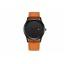watch: (23, 16, 46, 43)
